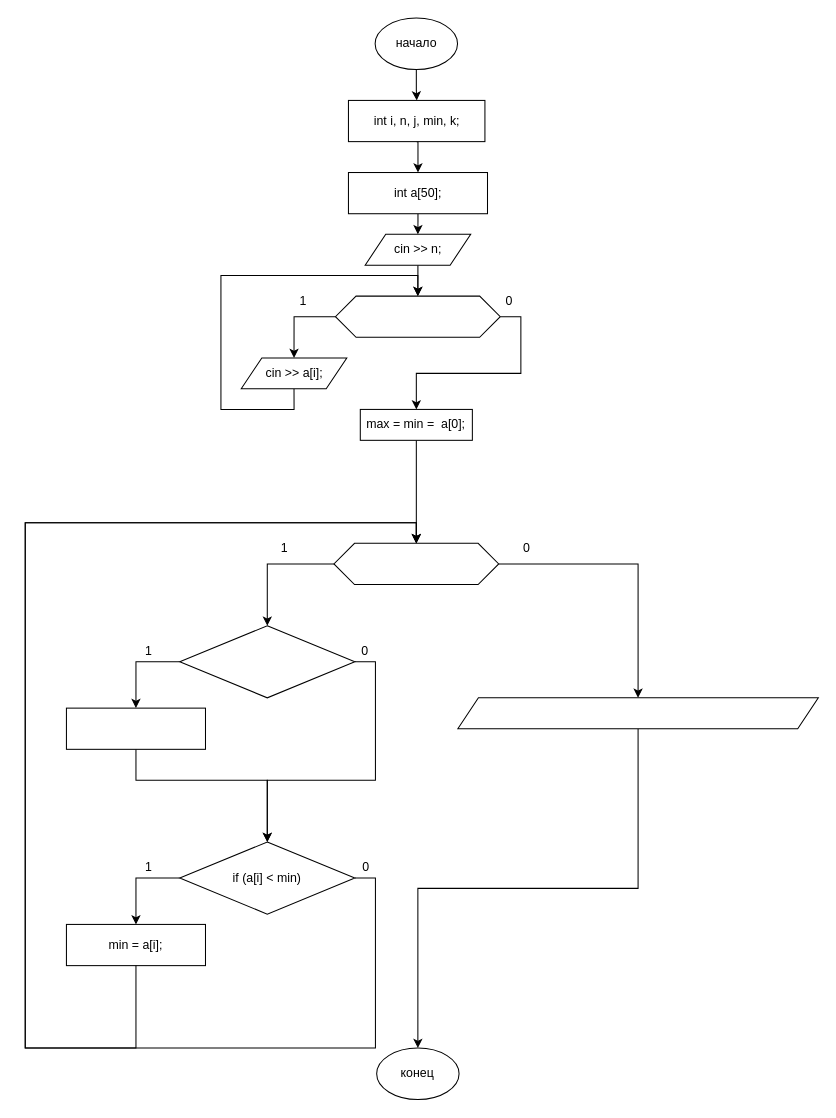
Image size: 836x1118. Some labels were removed from this diagram. Each missing label, with the centre of its shape:
cout << "MAX = "<< max << ", AMOUNT = " << m;: the point at 637,713
for (i = 0; i < n; i++): the point at 417,316
for (i = 1; i < n; i++): the point at 416,563
if (a[i] > max): the point at 267,661
max = a[i];: the point at 135,728
